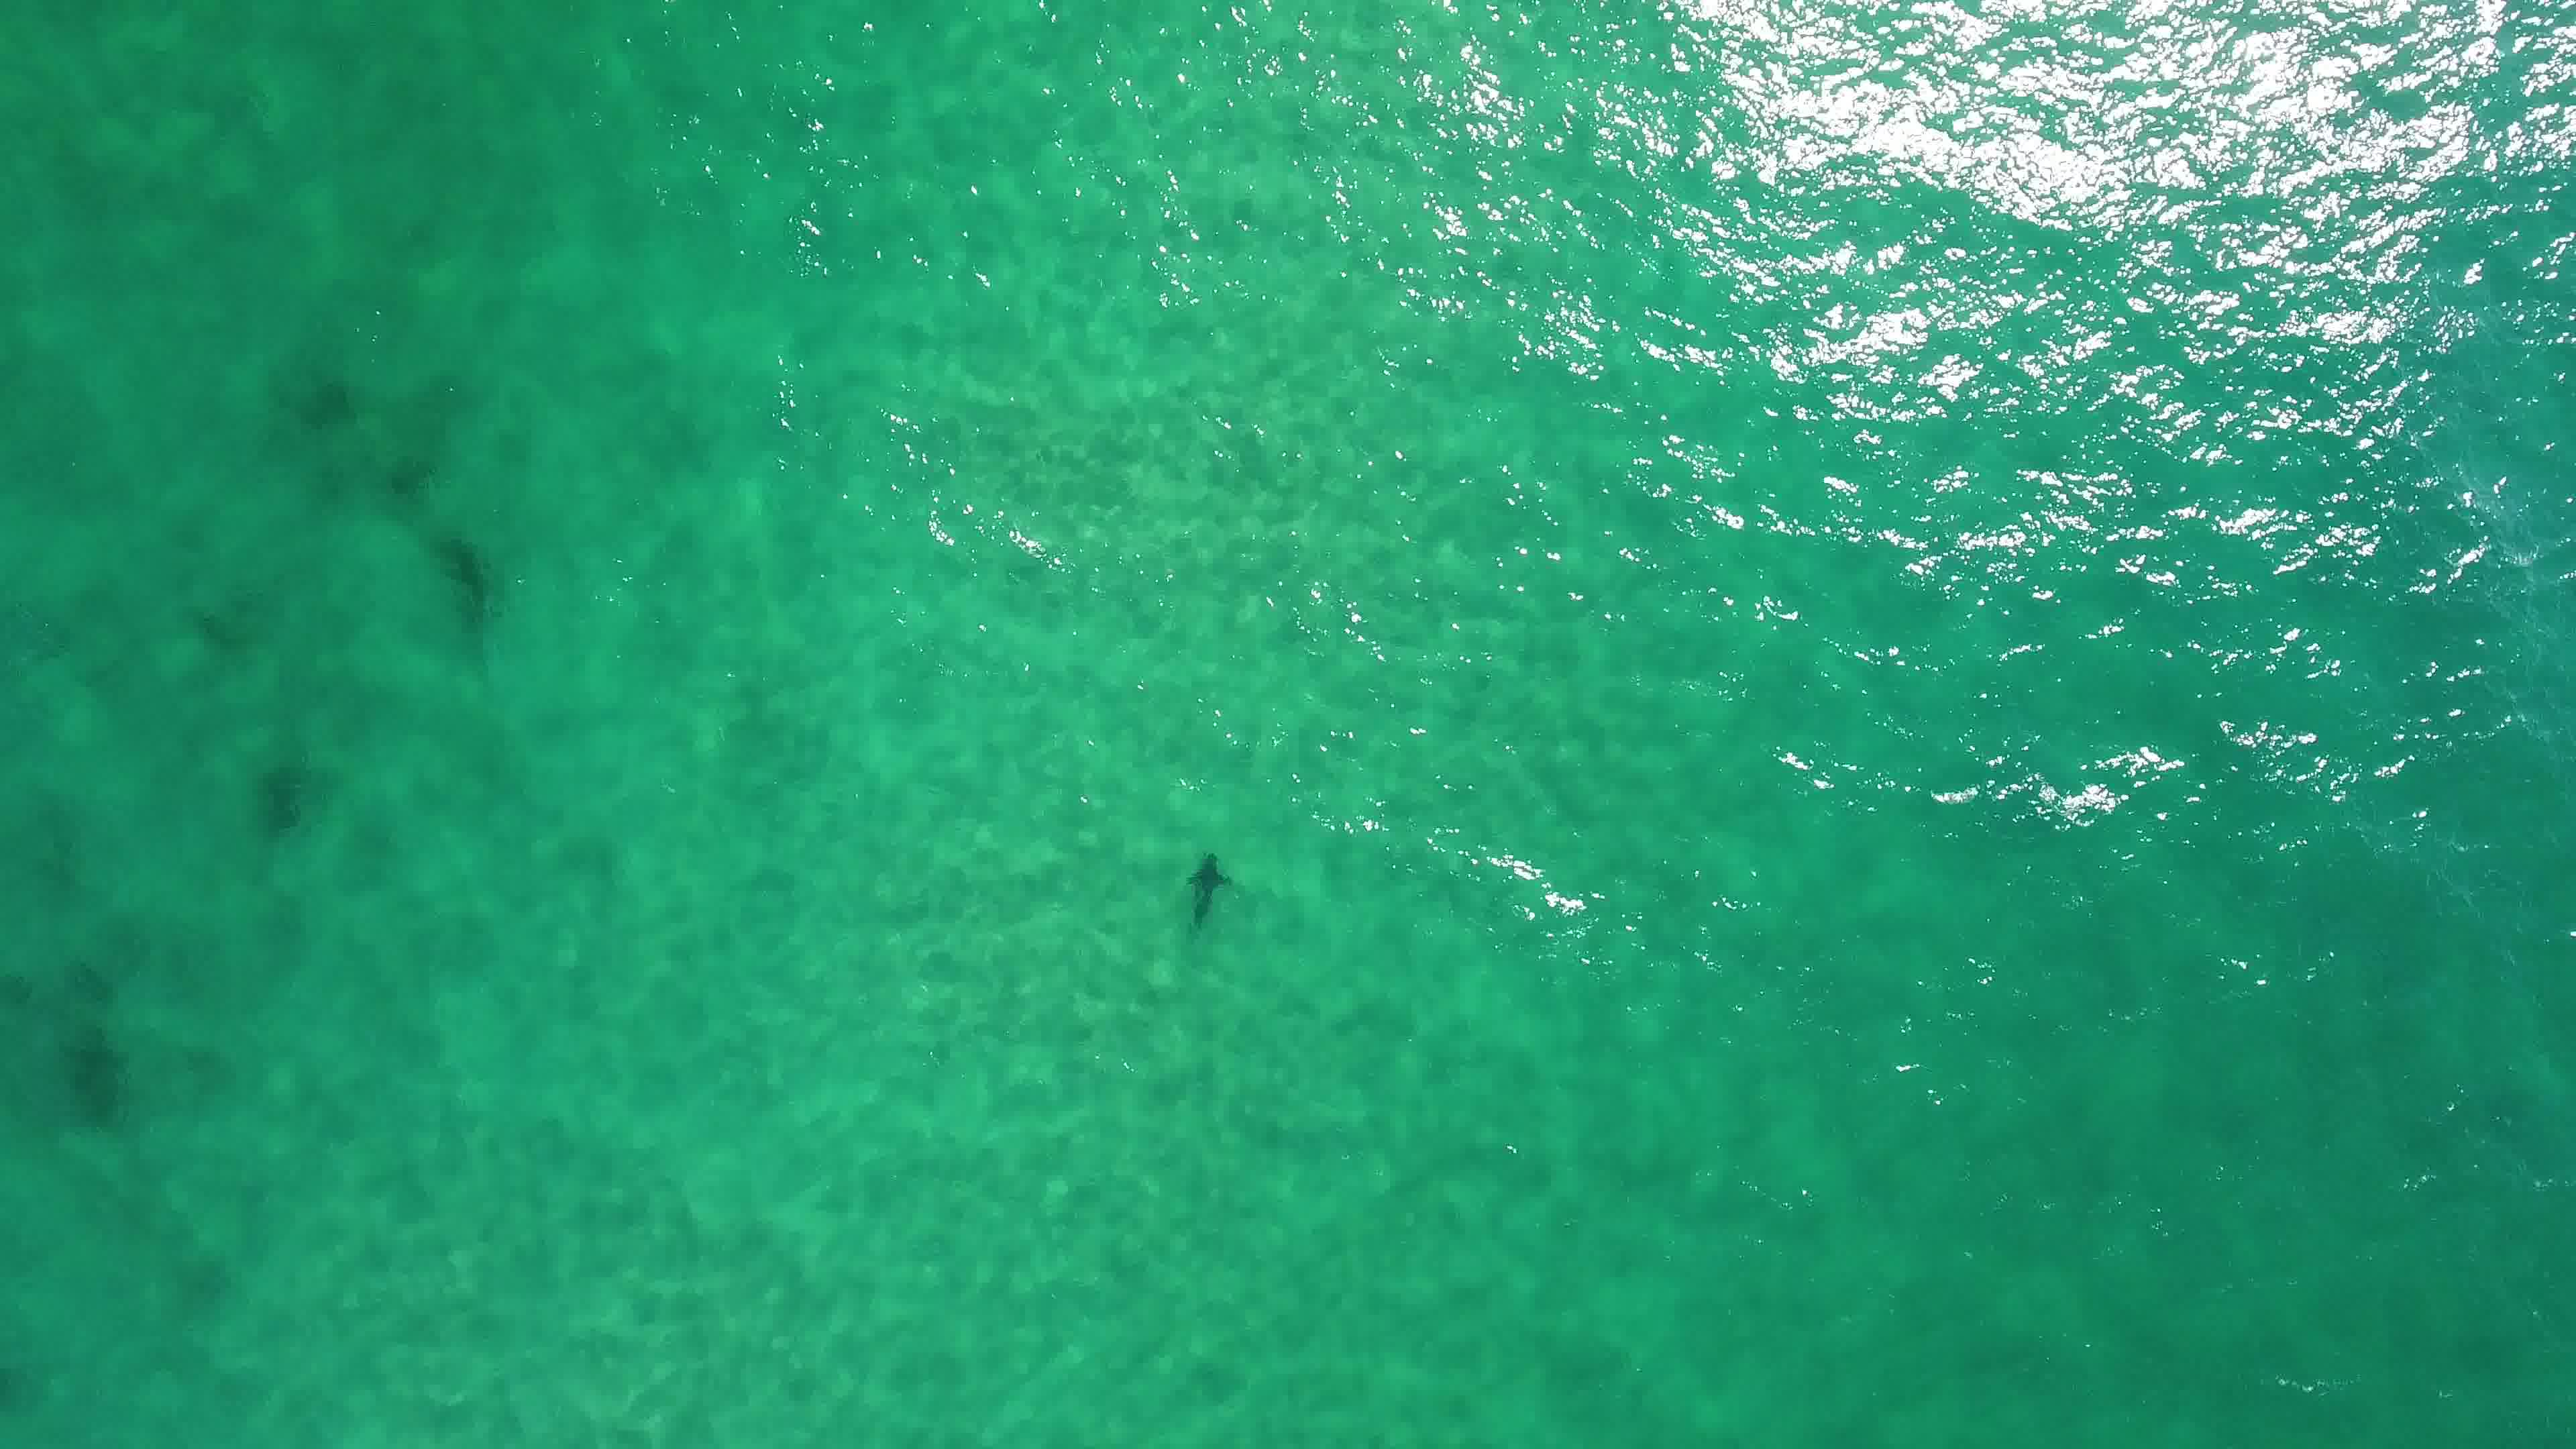shark: (1177, 847, 1238, 932)
